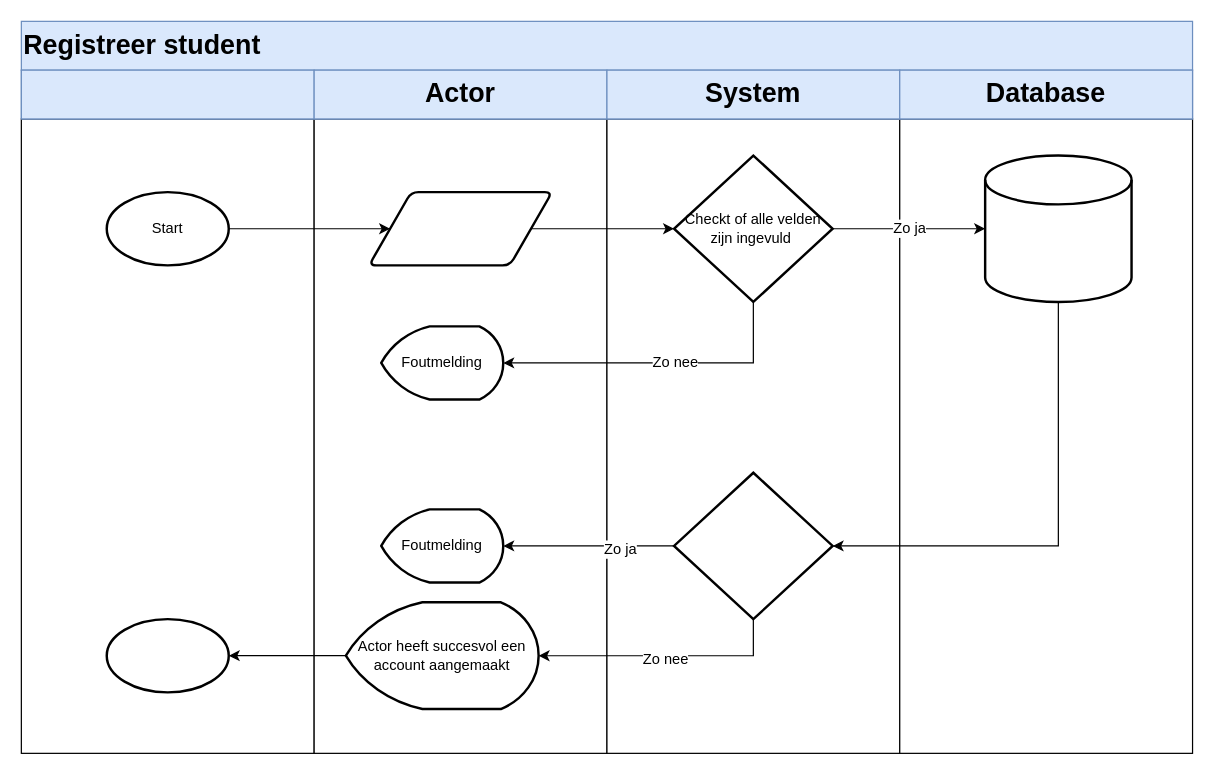
Image size: 1214x775. Some labels were removed from this diagram. The centre of each missing label's shape, as x and y in pixels:
"Checkt of gebruiker al bestaat" goes at (752,545).
"Input actor" goes at (460,228).
"Slaat gegevens op" goes at (1057,228).
"Stop" goes at (167,655).
